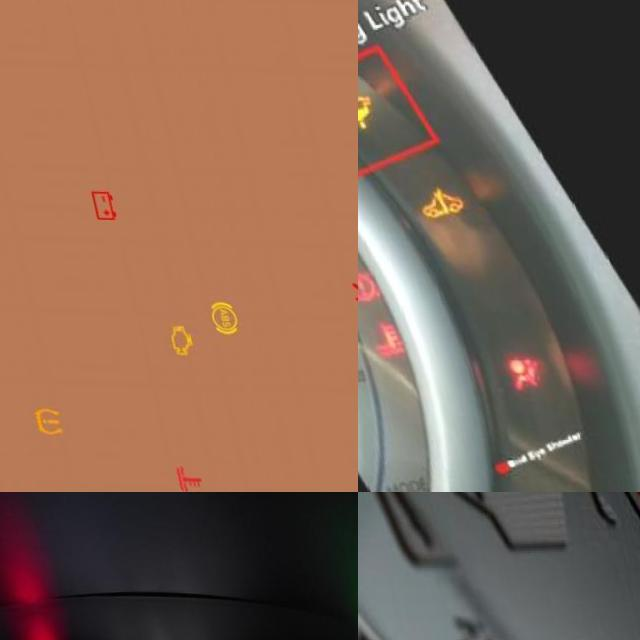Engine cooling system: (358, 300, 409, 359)
